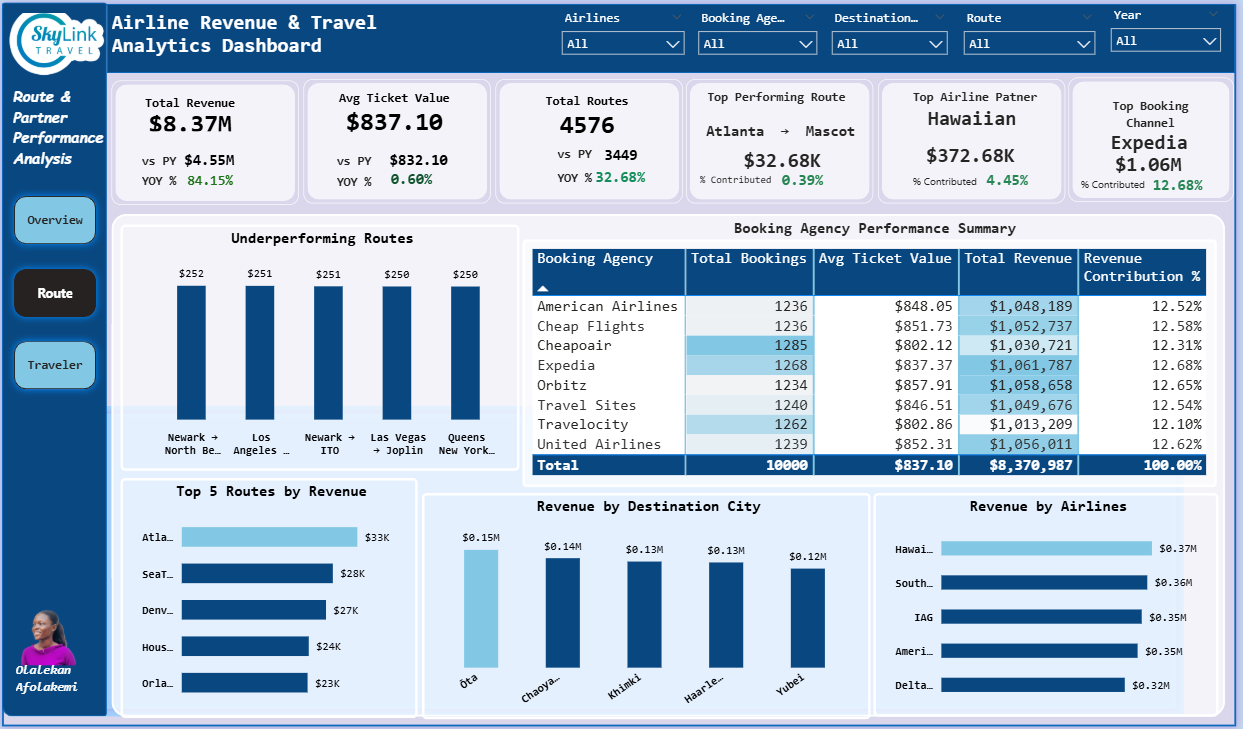

This screenshot's page, from the dashboard's own definition file:
{"tool":"powerbi","page":{"name":"Route","canvas":[1350,800],"ordinal":1},"visuals":[{"type":"shape","box":[24,17.6,1325.5,782.5],"z":0},{"type":"shape","box":[39.8,452,1246.2,329.4],"z":1000},{"type":"shape","box":[148.1,248.1,1181.5,533.3],"z":2000},{"type":"shape","box":[143.2,25.5,1196.8,73.2],"z":3000},{"type":"shape","box":[148,106.6,198.9,132.1],"z":4000},{"type":"slicer","fields":{"Values":["Table Date.Year","Table Date.Month"]},"box":[1198.4,23.9,136.9,60.5],"z":5000},{"type":"card","title":"Total Revenue","fields":{"Values":["Measure.Total Revenue"]},"box":[148.1,122.2,166.7,42.6],"z":6000},{"type":"card","title":"vs PY","fields":{"Values":["Measure.Previous Year Revenue"]},"box":[197.4,171.9,108.2,39.8],"z":7000},{"type":"slicer","fields":{"Values":["Flights.Destination City"]},"box":[901.9,27.8,142.6,59.3],"z":8000},{"type":"slicer","fields":{"Values":["Flights.Route "]},"box":[1042.5,27.1,159.2,57.3],"z":9000},{"type":"slicer","fields":{"Values":["Flights.Airlines"]},"box":[616.7,27.8,150,59.3],"z":10000},{"type":"slicer","fields":{"Values":["Flights.Booking Agency"]},"box":[761.1,27.8,146.3,59.3],"z":11000},{"type":"shape","box":[31.5,24.1,111.1,757.4],"z":12000},{"type":"textbox","box":[175.1,176.7,52.5,31.8],"z":13000},{"type":"card","fields":{"Values":["Measure.YOY %"]},"box":[206.9,198.9,90.7,30.2],"z":14000},{"type":"textbox","box":[175.1,197.4,52.5,36.6],"z":15000},{"type":"shape","box":[351.7,105,198.9,132.1],"z":16000},{"type":"shape","box":[555.4,105,198.9,132.1],"z":17000},{"type":"shape","box":[757.6,105,198.9,132.1],"z":18000},{"type":"shape","box":[961.3,105,198.9,132.1],"z":19000},{"type":"shape","box":[1163.4,103.5,175.1,132.1],"z":20000},{"type":"card","title":"Avg Ticket Value","fields":{"Values":["Measure.Avg Ticket Value"]},"box":[351.9,118.5,192.6,48.1],"z":21000},{"type":"card","title":"Top Airline Patner","fields":{"Values":["Measure.Top Airline Revenue"]},"box":[975.6,157.6,167.1,57.3],"z":22000},{"type":"card","title":"Top Booking Channel by Revenue","fields":{"Values":["Measure.Top Booking Channel Name"]},"box":[1166.6,152.8,163.9,38.2],"z":23000},{"type":"textbox","box":[381.5,175.9,70.4,31.5],"z":24000},{"type":"textbox","box":[381.5,198.1,57.4,29.6],"z":25000},{"type":"textbox","box":[615.9,168.7,57.3,31.8],"z":26000},{"type":"textbox","box":[615.9,194.2,58.9,33.4],"z":27000},{"type":"card","title":" One Way Trip","fields":{"Values":["Measure.Avg Ticket Value YOY %"]},"box":[405.6,196.3,120.4,33.3],"z":28000},{"type":"card","title":" One Way Trip","fields":{"Values":["Measure.Py Avg Ticket Value"]},"box":[425.9,175.9,94.4,29.6],"z":29000},{"type":"card","title":" One Way Trip","fields":{"Values":["Measure.Route YOY %"]},"box":[641.4,194.2,92.3,31.8],"z":30000},{"type":"card","title":" One Way Trip","fields":{"Values":["Measure.Py Routes"]},"box":[655.7,170.3,65.3,31.8],"z":31000},{"type":"card","title":"Top Airline Partner by Revenue","fields":{"Values":["Measure.Top Airline Partner"]},"box":[975.6,127.3,170.3,38.2],"z":32000},{"type":"card","title":" One Way Trip","fields":{"Values":["Measure.Revenue Contribution %"]},"box":[1238.2,203.7,81.2,28.6],"z":33000},{"type":"card","title":" One Way Trip","fields":{"Values":["Measure.Top Booking Revenue"]},"box":[1171.4,179.8,152.8,31.8],"z":34000},{"type":"textbox","box":[143.2,27.1,305.6,73.2],"z":35000},{"type":"textbox","box":[38.2,106.6,119.4,111.4],"z":36000},{"type":"image","box":[38.9,35.2,103.7,66.7],"z":37000},{"type":"pageNavigator","box":[36.6,221.2,103.5,221.2],"z":38000},{"type":"image","box":[49.3,660.5,60.5,66.8],"z":40000},{"type":"textbox","box":[41.4,716.2,103.5,52.5],"z":41000},{"type":"barChart","title":"Revenue by Airlines","fields":{"Category":["Flights.Airlines"],"Y":["Measure.Total Revenue"]},"box":[956.5,544.3,366.1,237.1],"z":42000},{"type":"barChart","title":"Top 5 Routes by Revenue ","fields":{"Category":["Flights.Route "],"Y":["Measure.Total Revenue"]},"box":[157.6,528.4,315.1,254.6],"z":43000},{"type":"columnChart","title":"Underperforming Routes","fields":{"Category":["Flights.Route "],"Y":["Measure.Total Revenue"]},"box":[157.6,259.4,423.4,261],"z":44000},{"type":"card","fields":{"Values":["Measure.Top Route"]},"box":[765.5,170.3,187.8,41.4],"z":45000},{"type":"card","title":"Top Revenue Generated Route","fields":{"Values":["Measure.Top Route Name"]},"box":[771.9,135.3,171.9,50.9],"z":46000},{"type":"card","title":"Total Routes","fields":{"Values":["Measure.Total Routes"]},"box":[565,121,175.1,47.7],"z":47000},{"type":"columnChart","title":" Revenue by Destination City","fields":{"Y":["Measure.Total Revenue"],"Category":["Flights.Destination City"]},"box":[477.5,544.3,475.9,240.3],"z":48000},{"type":"tableEx","fields":{"Values":["Flights.Booking Agency","Measure.Total Bookings","Measure.Avg Ticket Value","Measure.Total Revenue","Measure.Revenue Contribution %"]},"box":[584.1,275.3,736.9,262.6],"z":49000},{"type":"textbox","box":[1171.4,200.5,81.2,28.6],"z":50000},{"type":"textbox","box":[1177,118.2,145.3,52.7],"z":51000},{"type":"textbox","box":[775.3,107.6,177.4,29.9],"z":52000},{"type":"card","title":"Top Airline Patner","fields":{"Values":["Measure.Revenue Contribution %"]},"box":[1050.4,189.4,95.5,47.7],"z":53000},{"type":"card","title":"Avg Ticket Value","fields":{"Values":["Measure.Revenue Contribution %"]},"box":[827.6,195.8,106.6,35],"z":54000},{"type":"textbox","box":[992.6,107.6,151.5,31.9],"z":55000},{"type":"textbox","box":[993.3,198,97.4,28.7],"z":56000},{"type":"textbox","box":[767.1,195.8,92.3,30.2],"z":57000},{"type":"textbox","box":[604.8,248.3,706.6,33.4],"z":58000}]}

Visuals, with their boxes in screenshot pixels (x1, y1, x2, y2), scaled from the page's 1350x800 canvas onto the 1243x729 screenshot:
shape: Rect(22, 16, 1242, 728)
shape: Rect(37, 412, 1184, 712)
shape: Rect(136, 226, 1224, 712)
shape: Rect(132, 23, 1234, 90)
shape: Rect(136, 97, 319, 218)
slicer - Table Date.Year x Table Date.Month: Rect(1103, 22, 1229, 77)
"Total Revenue" card: Rect(136, 111, 290, 150)
"vs PY" card: Rect(182, 157, 281, 193)
slicer - Flights.Destination City: Rect(830, 25, 962, 79)
slicer - Flights.Route : Rect(960, 25, 1106, 77)
slicer - Flights.Airlines: Rect(568, 25, 706, 79)
slicer - Flights.Booking Agency: Rect(701, 25, 835, 79)
shape: Rect(29, 22, 131, 712)
textbox: Rect(161, 161, 210, 190)
card - Measure.YOY %: Rect(191, 181, 274, 209)
textbox: Rect(161, 180, 210, 213)
shape: Rect(324, 96, 507, 216)
shape: Rect(511, 96, 695, 216)
shape: Rect(698, 96, 881, 216)
shape: Rect(885, 96, 1068, 216)
shape: Rect(1071, 94, 1232, 215)
"Avg Ticket Value" card: Rect(324, 108, 501, 152)
"Top Airline Patner" card: Rect(898, 144, 1052, 196)
"Top Booking Channel by Revenue" card: Rect(1074, 139, 1225, 174)
textbox: Rect(351, 160, 416, 189)
textbox: Rect(351, 181, 404, 207)
textbox: Rect(567, 154, 620, 183)
textbox: Rect(567, 177, 621, 207)
" One Way Trip" card: Rect(373, 179, 484, 209)
" One Way Trip" card: Rect(392, 160, 479, 187)
" One Way Trip" card: Rect(591, 177, 676, 206)
" One Way Trip" card: Rect(604, 155, 664, 184)
"Top Airline Partner by Revenue" card: Rect(898, 116, 1055, 151)
" One Way Trip" card: Rect(1140, 186, 1215, 212)
" One Way Trip" card: Rect(1079, 164, 1219, 193)
textbox: Rect(132, 25, 413, 91)
textbox: Rect(35, 97, 145, 199)
image: Rect(36, 32, 131, 93)
pageNavigator: Rect(34, 202, 129, 403)
image: Rect(45, 602, 101, 663)
textbox: Rect(38, 653, 133, 700)
"Revenue by Airlines" barChart: Rect(881, 496, 1218, 712)
"Top 5 Routes by Revenue " barChart: Rect(145, 482, 435, 714)
"Underperforming Routes" columnChart: Rect(145, 236, 535, 474)
card - Measure.Top Route: Rect(705, 155, 878, 193)
"Top Revenue Generated Route" card: Rect(711, 123, 869, 170)
"Total Routes" card: Rect(520, 110, 681, 154)
" Revenue by Destination City" columnChart: Rect(440, 496, 878, 715)
tableEx - Flights.Booking Agency x Measure.Total Bookings: Rect(538, 251, 1216, 490)
textbox: Rect(1079, 183, 1153, 209)
textbox: Rect(1084, 108, 1217, 156)
textbox: Rect(714, 98, 877, 125)
"Top Airline Patner" card: Rect(967, 173, 1055, 216)
"Avg Ticket Value" card: Rect(762, 178, 860, 210)
textbox: Rect(914, 98, 1053, 127)
textbox: Rect(915, 180, 1004, 207)
textbox: Rect(706, 178, 791, 206)
textbox: Rect(557, 226, 1207, 257)
